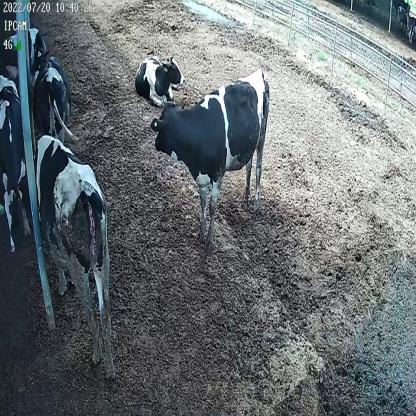cow: (17, 133, 115, 374), (149, 70, 272, 243), (0, 68, 30, 258), (30, 54, 80, 145), (134, 48, 188, 108), (3, 30, 50, 82)
